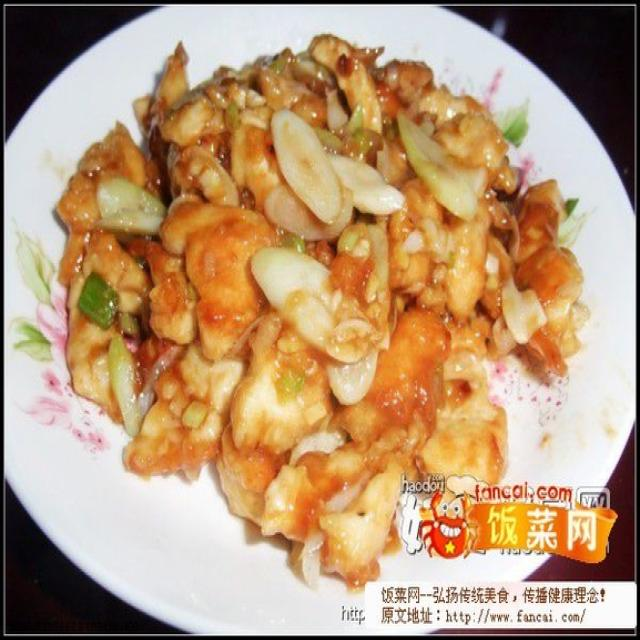鸡肉料理 含炸鸡: (13, 20, 611, 620)
